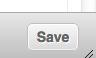button: (26, 22, 78, 53)
